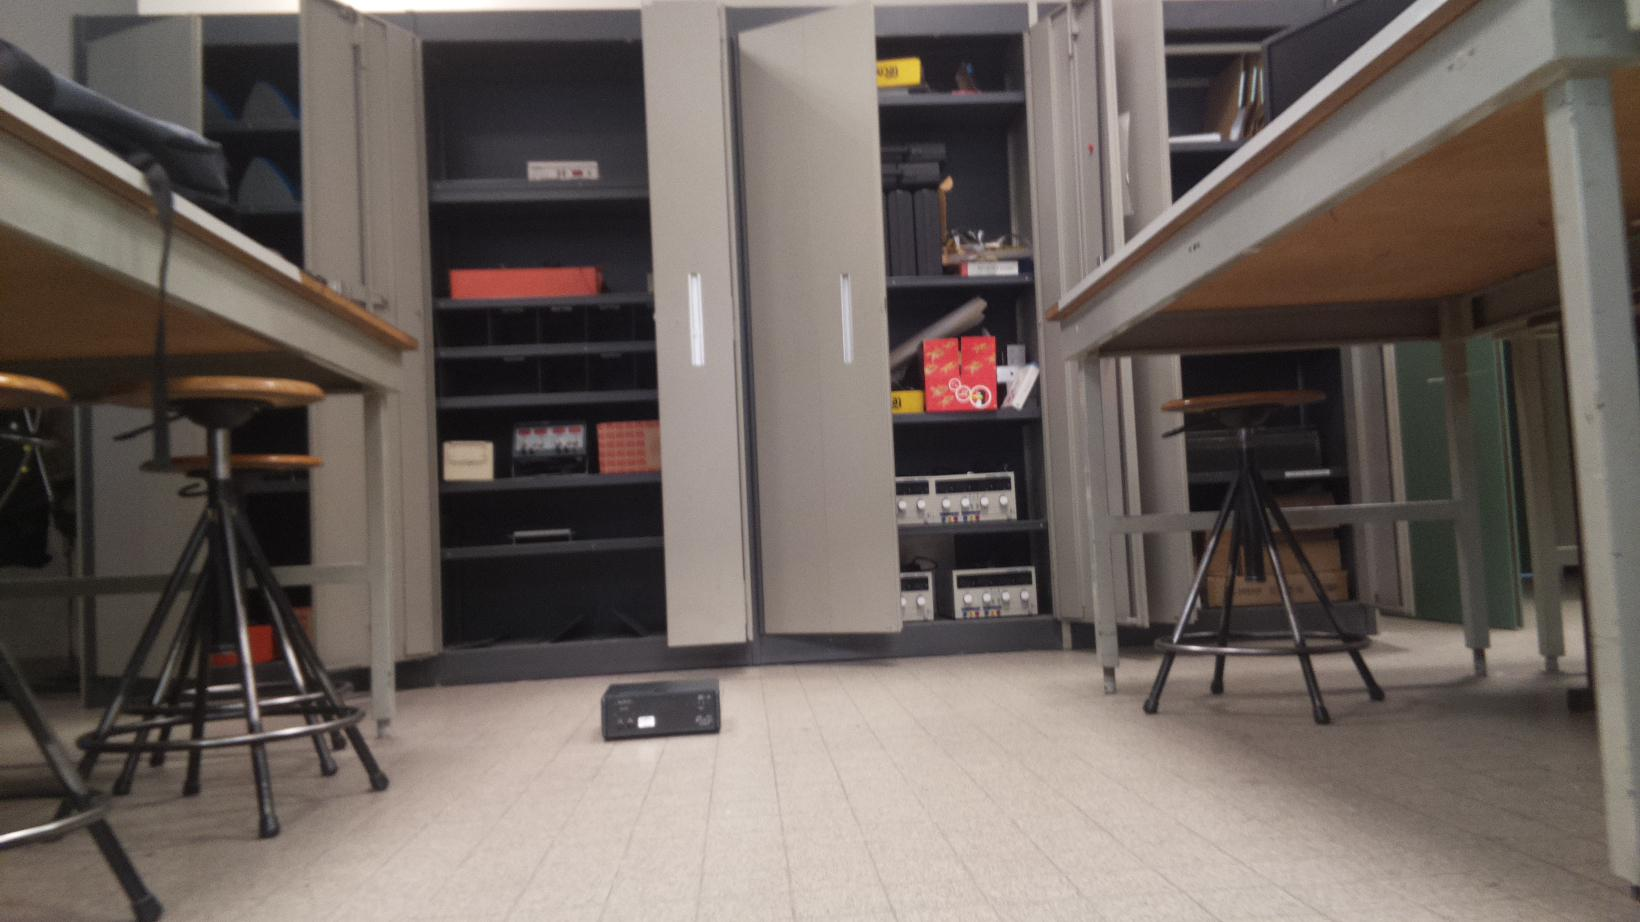medium: (588, 669, 734, 748)
